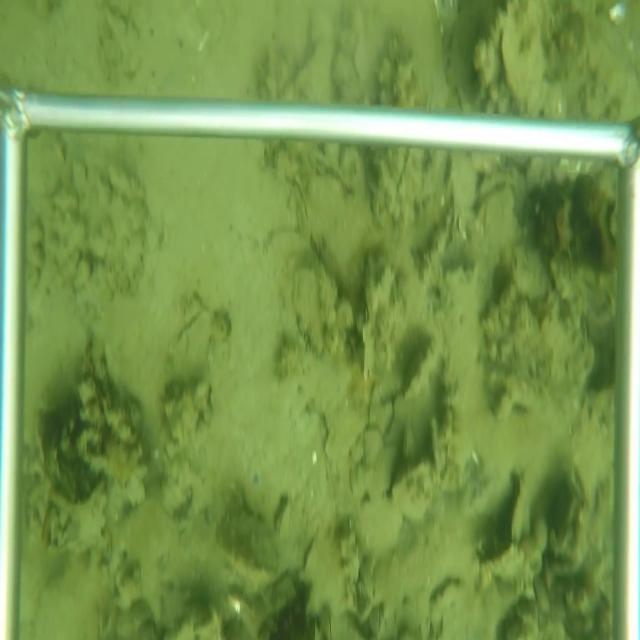Oyster-Closed: (358, 251, 394, 387), (285, 173, 313, 237), (400, 423, 415, 462)
Oyster-Indeterminate: (399, 329, 440, 405)
